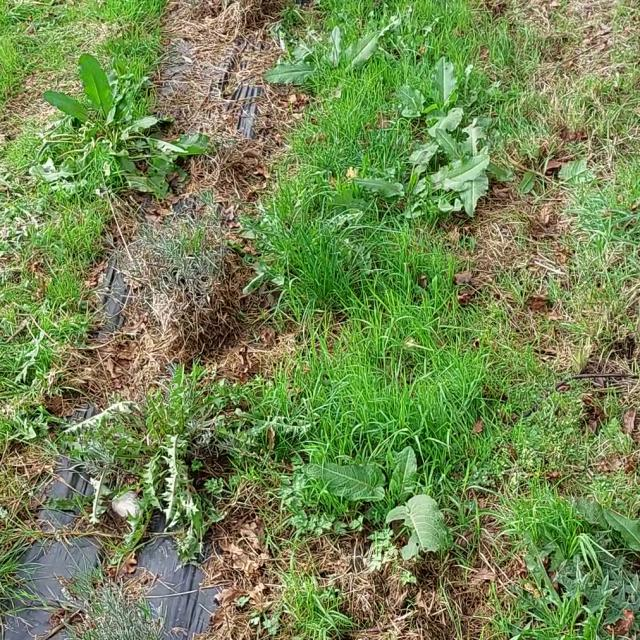organic waste: (28, 56, 205, 189), (331, 430, 489, 561), (342, 126, 517, 239), (252, 13, 402, 86), (409, 60, 497, 130)
